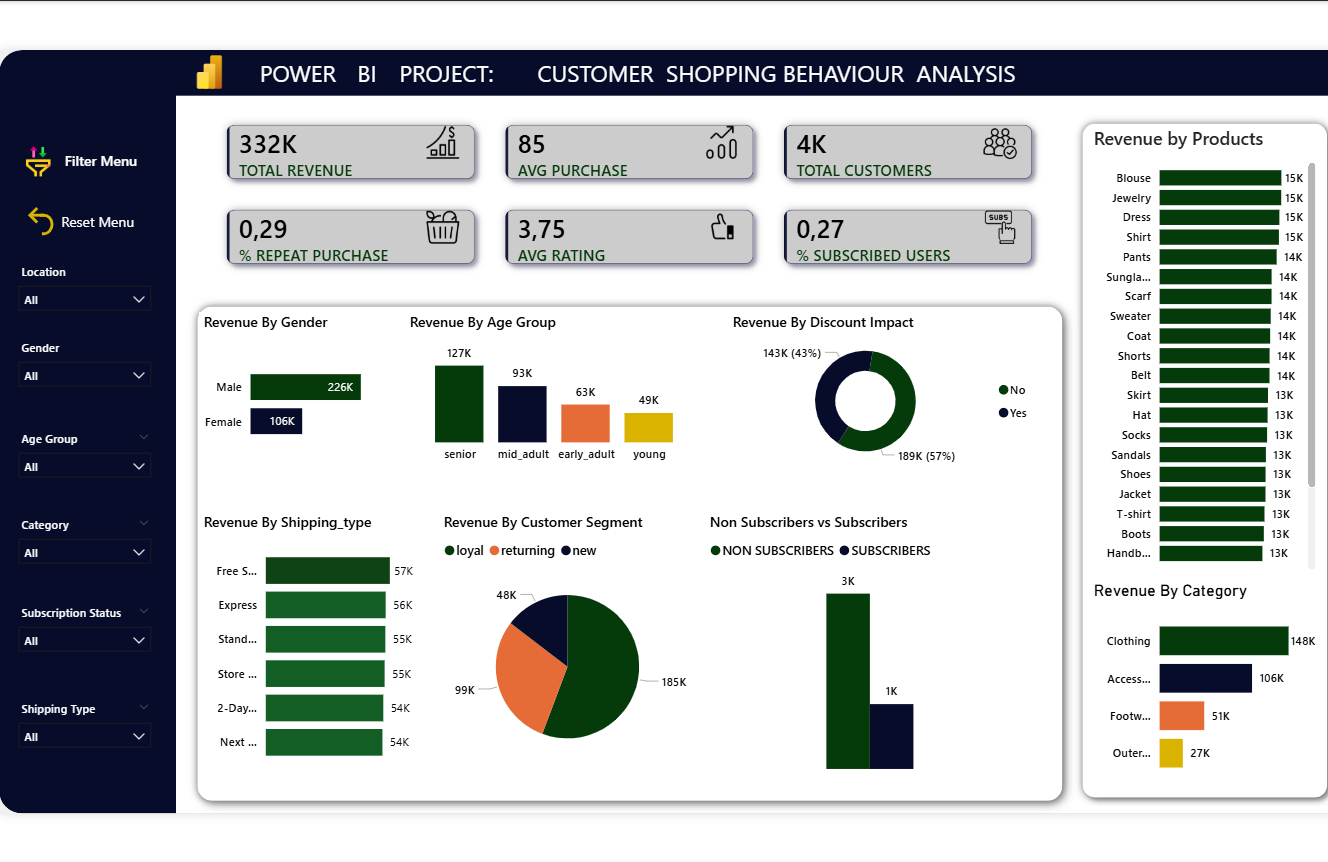

The page's visual inventory and layout, read from the dashboard file:
{"tool":"powerbi","page":{"name":"Page 1","canvas":[1400,800],"ordinal":0},"visuals":[{"type":"shape","box":[0,0,1400.9,800.1],"z":0},{"type":"shape","box":[185.5,0,1215,800],"z":1000},{"type":"cardVisual","fields":{"Data":["customer_behaviour_analysis.TOTAL REVENUE","customer_behaviour_analysis.AVG PURCHASE VALUE","customer_behaviour_analysis.TOTAL CUSTOMERS","customer_behaviour_analysis.REPEAT PURCHASE RATE","customer_behaviour_analysis.AVG RATING","customer_behaviour_analysis.% SUBVSCRIBED USERS"]},"box":[209.5,48.9,903.7,204.5],"z":2000},{"type":"shape","box":[185.5,0,1215,47.9],"z":3000},{"type":"shape","box":[194.6,256,932.4,544.1],"z":4000},{"type":"barChart","title":" Revenue By Gender ","fields":{"Category":["customer_behaviour_analysis.gender"],"Y":["customer_behaviour_analysis.TOTAL REVENUE"]},"box":[209.6,274.6,209.6,166.6],"z":5000},{"type":"columnChart","title":"Revenue By Age Group","fields":{"Category":["customer_behaviour_analysis.age_group"],"Y":["customer_behaviour_analysis.TOTAL REVENUE"]},"box":[425.4,274.6,314.4,166.6],"z":6000},{"type":"barChart","title":"Revenue By Shipping_type","fields":{"Category":["customer_behaviour_analysis.shipping_type"],"Y":["customer_behaviour_analysis.TOTAL REVENUE"]},"box":[209.6,484.1,229.5,275.6],"z":7000},{"type":"pieChart","title":" Revenue By Customer Segment","fields":{"Category":["customer_behaviour_analysis.customer_segmentation"],"Y":["customer_behaviour_analysis.TOTAL REVENUE"]},"box":[461.1,484.1,269.3,275.6],"z":8000},{"type":"donutChart","title":"Revenue By Discount Impact","fields":{"Category":["customer_behaviour_analysis.discount_applied"],"Y":["customer_behaviour_analysis.TOTAL REVENUE"]},"box":[763.9,274.6,328,166.6],"z":9000},{"type":"image","box":[185.5,2,70.8,41.9],"z":10000},{"type":"shape","box":[1126.2,67.8,274.3,724.2],"z":11000},{"type":"clusteredBarChart","title":"Revenue By Category","fields":{"Category":["customer_behaviour_analysis.category"],"Y":["customer_behaviour_analysis.TOTAL REVENUE"]},"box":[1142.1,556.6,242.4,217.5],"z":12000},{"type":"textbox","box":[268.3,2,834.9,43.9],"z":13000},{"type":"clusteredColumnChart","title":"Non Subscribers vs Subscribers","fields":{"Y":["customer_behaviour_analysis.NON SUBSCRIBERS","customer_behaviour_analysis.SUBSCRIBERS"]},"box":[739.8,484.1,352.1,275.6],"z":14000},{"type":"barChart","title":"Revenue by Products","fields":{"Category":["customer_behaviour_analysis.item_purchased"],"Y":["customer_behaviour_analysis.TOTAL REVENUE"]},"box":[1142.1,79.8,242.4,469.8],"z":15000},{"type":"slicer","fields":{"Values":["customer_behaviour_analysis.location"]},"box":[10,219.5,158.6,54.9],"z":21000},{"type":"slicer","fields":{"Values":["customer_behaviour_analysis.gender"]},"box":[10,298.3,158.6,54.9],"z":21001},{"type":"slicer","fields":{"Values":["customer_behaviour_analysis.age_group"]},"box":[10,394,158.6,54.9],"z":21002},{"type":"slicer","fields":{"Values":["customer_behaviour_analysis.category"]},"box":[10,483.8,158.6,54.9],"z":21003},{"type":"slicer","fields":{"Values":["customer_behaviour_analysis.subscription_status"]},"box":[10,576.6,158.6,54.9],"z":21004},{"type":"slicer","fields":{"Values":["customer_behaviour_analysis.shipping_type"]},"box":[10,677.3,158.6,54.9],"z":21005},{"type":"image","box":[24.1,97.5,33.5,36.7],"z":21006},{"type":"textbox","box":[63.9,100.6,98.5,33.5],"z":21007},{"type":"actionButton","box":[24.1,159.3,121.6,39.8],"z":21010}]}

Visuals, with their boxes on the page's 1400x800 design canvas (x1, y1, x2, y2). These are canvas units, not pixel positions in the 1328x862 screenshot, which may show the page scaled, cropped or inside an application window:
shape: bbox=[0, 0, 1401, 800]
shape: bbox=[186, 0, 1400, 800]
cardVisual - customer_behaviour_analysis.TOTAL REVENUE x customer_behaviour_analysis.AVG PURCHASE VALUE: bbox=[210, 49, 1113, 253]
shape: bbox=[186, 0, 1400, 48]
shape: bbox=[195, 256, 1127, 800]
" Revenue By Gender " barChart: bbox=[210, 275, 419, 441]
"Revenue By Age Group" columnChart: bbox=[425, 275, 740, 441]
"Revenue By Shipping_type" barChart: bbox=[210, 484, 439, 760]
" Revenue By Customer Segment" pieChart: bbox=[461, 484, 730, 760]
"Revenue By Discount Impact" donutChart: bbox=[764, 275, 1092, 441]
image: bbox=[186, 2, 256, 44]
shape: bbox=[1126, 68, 1400, 792]
"Revenue By Category" clusteredBarChart: bbox=[1142, 557, 1384, 774]
textbox: bbox=[268, 2, 1103, 46]
"Non Subscribers vs Subscribers" clusteredColumnChart: bbox=[740, 484, 1092, 760]
"Revenue by Products" barChart: bbox=[1142, 80, 1384, 550]
slicer - customer_behaviour_analysis.location: bbox=[10, 220, 169, 274]
slicer - customer_behaviour_analysis.gender: bbox=[10, 298, 169, 353]
slicer - customer_behaviour_analysis.age_group: bbox=[10, 394, 169, 449]
slicer - customer_behaviour_analysis.category: bbox=[10, 484, 169, 539]
slicer - customer_behaviour_analysis.subscription_status: bbox=[10, 577, 169, 632]
slicer - customer_behaviour_analysis.shipping_type: bbox=[10, 677, 169, 732]
image: bbox=[24, 98, 58, 134]
textbox: bbox=[64, 101, 162, 134]
actionButton: bbox=[24, 159, 146, 199]
